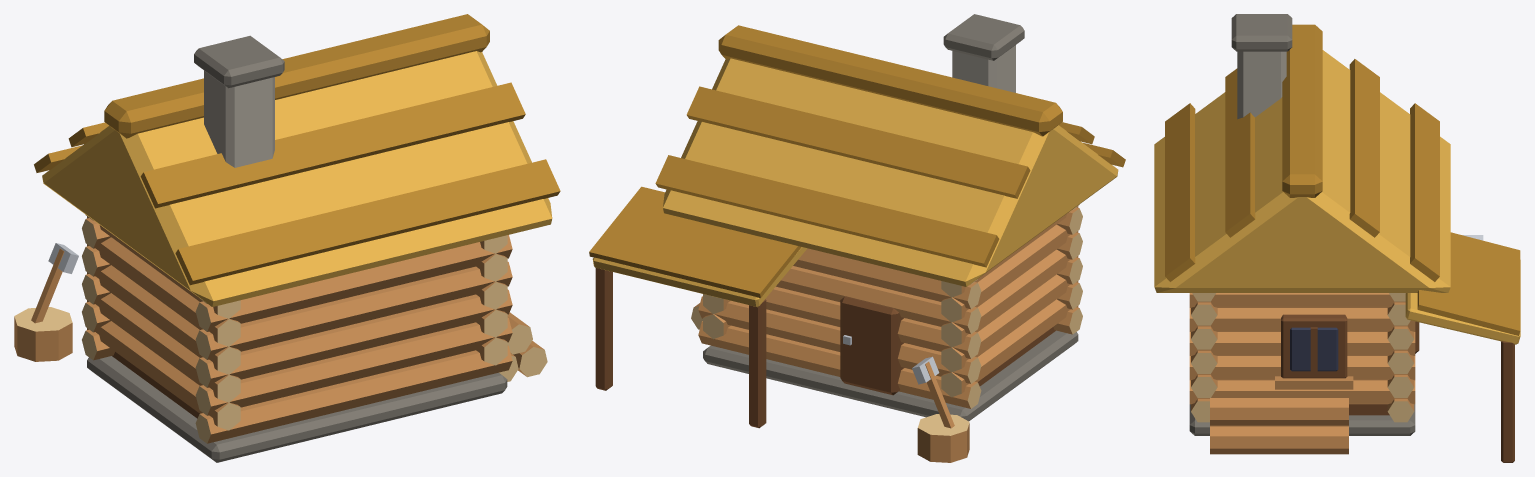
File: woodcutter_l2.fbx
The picture shows the model from 3 angles, left to right: view 1: azimuth 30°, elevation 25°; view 2: azimuth 150°, elevation 25°; view 3: azimuth 270°, elevation 25°; orthographic projection. The views are drawn at different scales.
Visible parts, largest first — view 1: woodcutter_l2; view 2: woodcutter_l2; view 3: woodcutter_l2.
Part boxes in pixels (x1=…): woodcutter_l2: x1=14, y1=14, x2=560, y2=462; woodcutter_l2: x1=589, y1=14, x2=1125, y2=462; woodcutter_l2: x1=1154, y1=14, x2=1520, y2=462.
Size of the model in its own units: 0.822 by 0.7248 by 0.7593.
